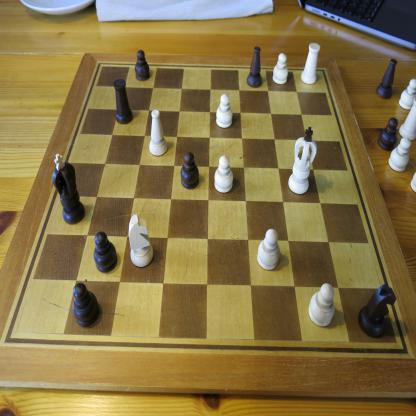black-bishop: (375, 58, 398, 100), (246, 46, 263, 89)
black-king: (51, 152, 85, 224)
black-knight: (357, 284, 396, 340)
black-pawn: (73, 283, 100, 328), (93, 230, 118, 273), (179, 151, 200, 189), (377, 117, 399, 152), (134, 48, 151, 82)
black-rook: (112, 78, 134, 124)
white-bishop: (149, 109, 168, 157)
white-king: (287, 127, 318, 196)
white-knight: (128, 214, 155, 270)
white-pawn: (308, 282, 335, 328), (256, 228, 280, 272), (388, 137, 411, 173), (213, 156, 234, 194), (215, 93, 233, 129), (272, 52, 288, 86), (399, 78, 415, 112)
white-rook: (300, 42, 320, 86)
